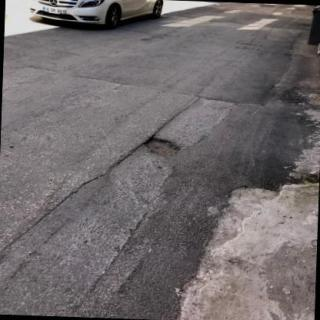pothole: (142, 134, 182, 159)
